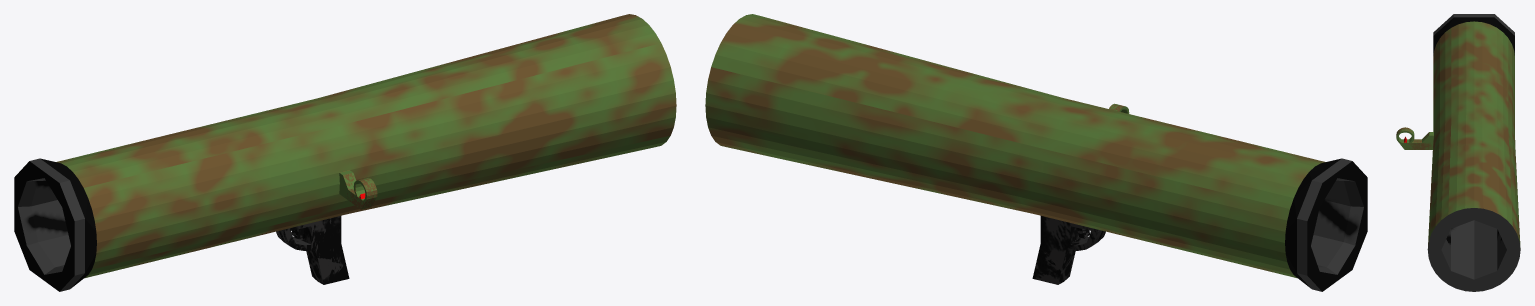
Rendered from Bazooka.fbx.
3 views of the same model, side by side, from view 1: azimuth 30°, elevation 25°; view 2: azimuth 150°, elevation 25°; view 3: azimuth 270°, elevation 25° (orthographic). The views are drawn at different scales.
Visible parts, largest first — view 1: Bazooka; view 2: Bazooka; view 3: Bazooka.
Part boxes in pixels (x1,y1,x2,y2): Bazooka: [14, 14, 676, 291]; Bazooka: [705, 14, 1367, 291]; Bazooka: [1396, 14, 1520, 291].
Size of the model in its own units: 0.6892 by 0.2024 by 0.182.
Materials: 1 (1 with a texture image).
